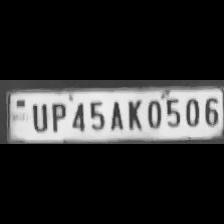0: (143, 97, 163, 129), (182, 94, 200, 128)
4: (68, 99, 86, 131)
5: (85, 97, 105, 132), (163, 96, 181, 128)
6: (200, 94, 220, 128)
A: (107, 97, 125, 131)
K: (123, 97, 143, 131)
P: (47, 100, 67, 132)
U: (27, 100, 49, 132)
